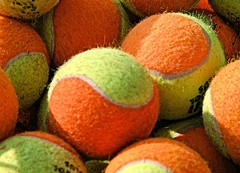tennis ball: (34, 44, 162, 162), (112, 10, 230, 121), (1, 15, 51, 116), (1, 128, 91, 173), (98, 139, 214, 173)
